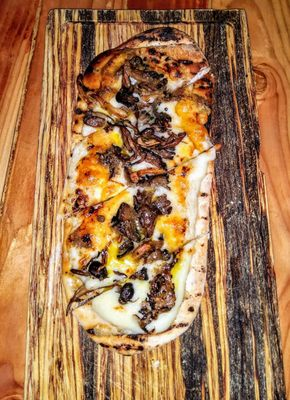sandwich: (57, 20, 220, 387)
